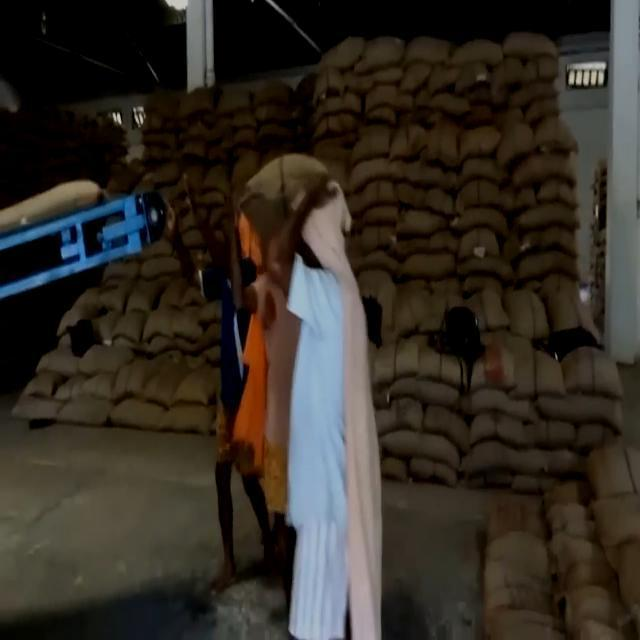gunny_bag: (235, 148, 335, 244), (0, 181, 104, 235), (536, 393, 622, 439), (378, 425, 459, 468), (542, 290, 601, 347), (460, 386, 538, 426), (563, 344, 626, 392), (386, 374, 460, 413), (503, 288, 551, 344), (510, 152, 580, 190), (418, 114, 467, 168), (133, 362, 188, 406), (351, 154, 410, 194), (518, 248, 578, 286), (464, 286, 511, 334), (518, 222, 576, 259), (454, 154, 506, 194), (512, 204, 581, 234), (401, 32, 454, 71), (450, 33, 504, 71), (493, 119, 535, 167), (391, 254, 458, 284), (104, 395, 164, 428), (350, 119, 393, 165), (354, 34, 402, 74), (532, 344, 572, 392), (314, 34, 359, 76), (54, 395, 110, 428), (455, 124, 503, 162), (177, 364, 220, 406), (532, 115, 576, 156), (156, 404, 216, 434), (452, 209, 510, 240), (454, 255, 514, 284), (503, 30, 557, 62), (93, 274, 136, 314), (397, 208, 450, 240), (352, 180, 399, 216), (312, 92, 361, 126), (80, 344, 132, 376), (456, 224, 503, 258), (394, 208, 447, 238), (364, 82, 416, 112), (250, 80, 300, 111), (410, 155, 456, 188), (506, 82, 558, 110), (426, 88, 471, 120), (174, 88, 216, 122), (128, 279, 164, 317), (109, 308, 147, 342), (537, 176, 579, 206), (142, 308, 176, 344), (358, 202, 401, 228), (10, 400, 65, 420), (216, 86, 254, 114), (144, 92, 180, 121), (200, 160, 232, 192), (138, 255, 178, 279), (41, 148, 82, 170), (38, 135, 80, 155), (140, 130, 177, 152), (258, 122, 294, 142), (232, 127, 258, 148)
